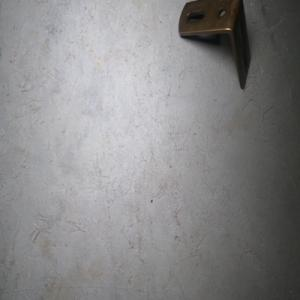MetalPart: (177, 0, 251, 91)
